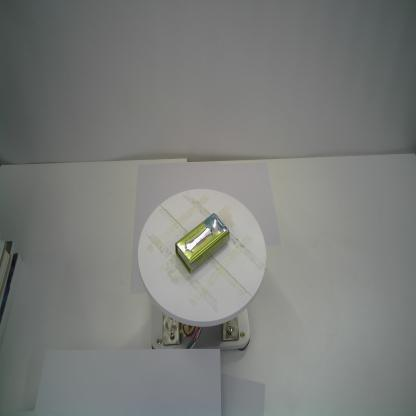Gum: (174, 212, 230, 274)
